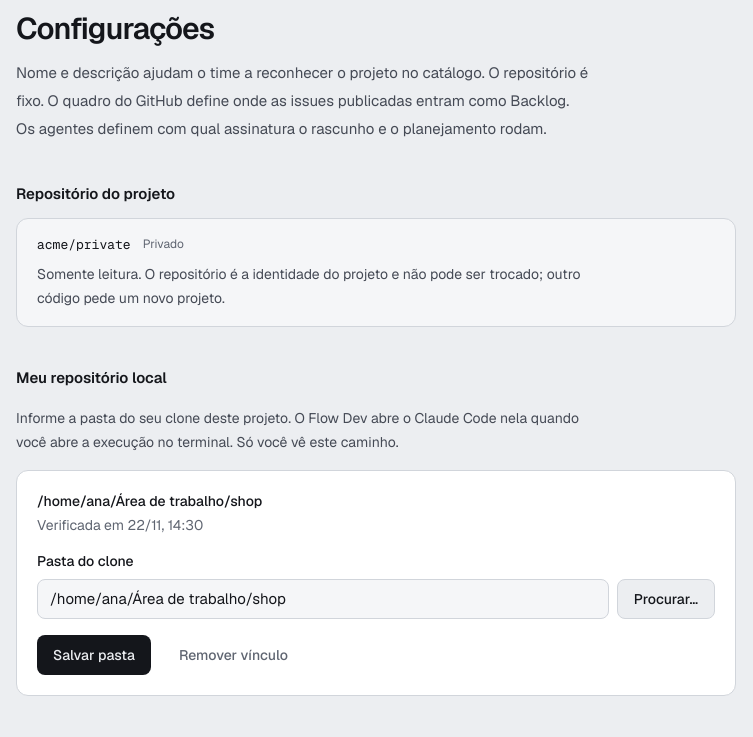
local checkout section › V-01n shows the server refusal in an alert and keeps the saved folder
Replace the text in the field labelled "Pasta do clone" with "/home/ana/blog": (323, 598) x1=37 y1=578 x2=609 y2=618
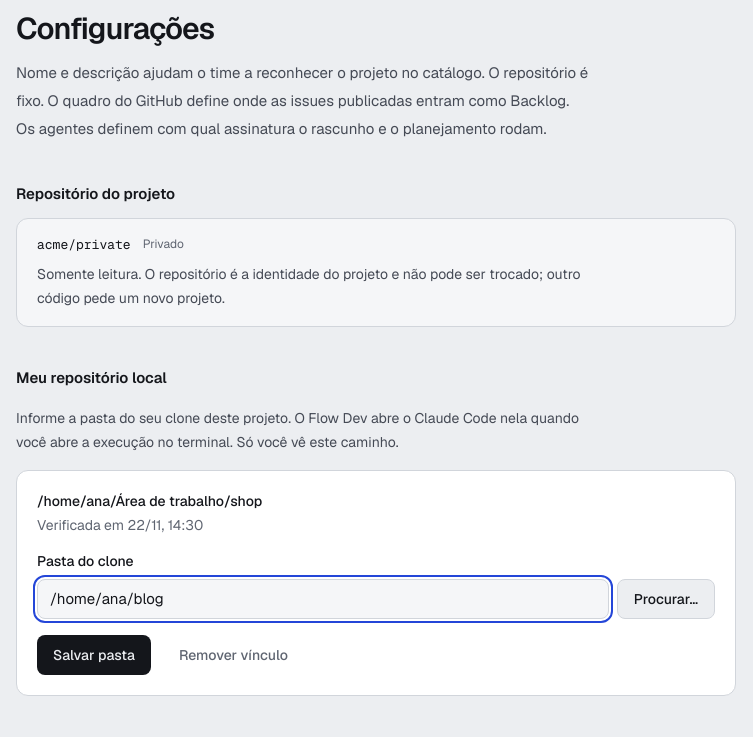
Click the button "Salvar pasta": (94, 654) x1=37 y1=634 x2=151 y2=674
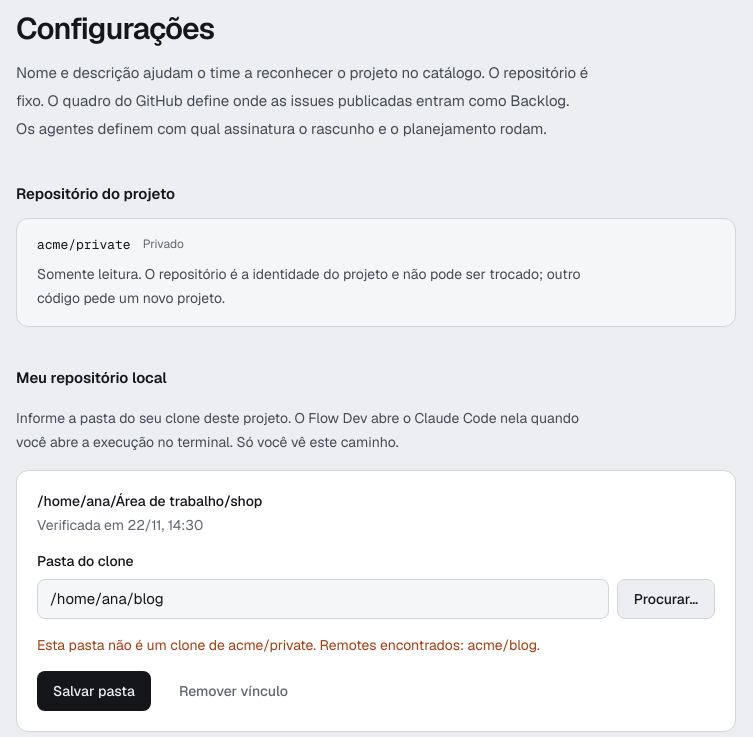
Expected: the text "/home/ana/Área de trabalho/shop" is shown, x1=37 y1=492 x2=262 y2=510
Expected: the message reads "Esta pasta não é um clone de acme/private. Remotes encontrados: acme/blog.", x1=37 y1=636 x2=540 y2=654
